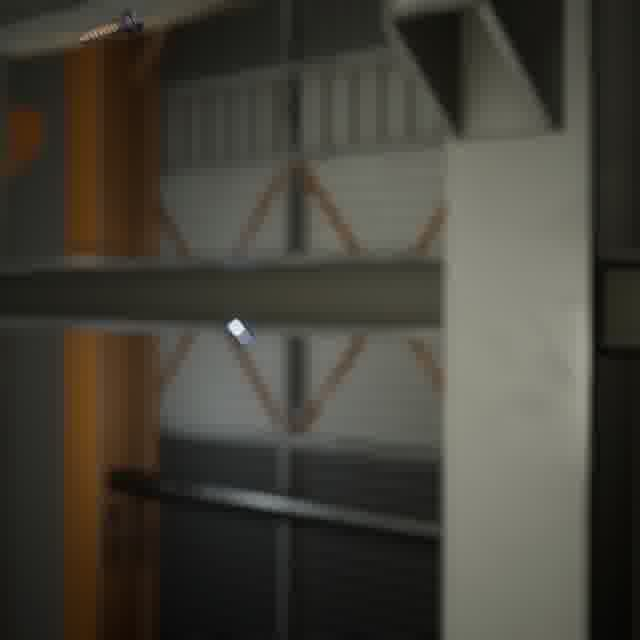bolt: (74, 4, 147, 49)
nut: (222, 313, 257, 351)
